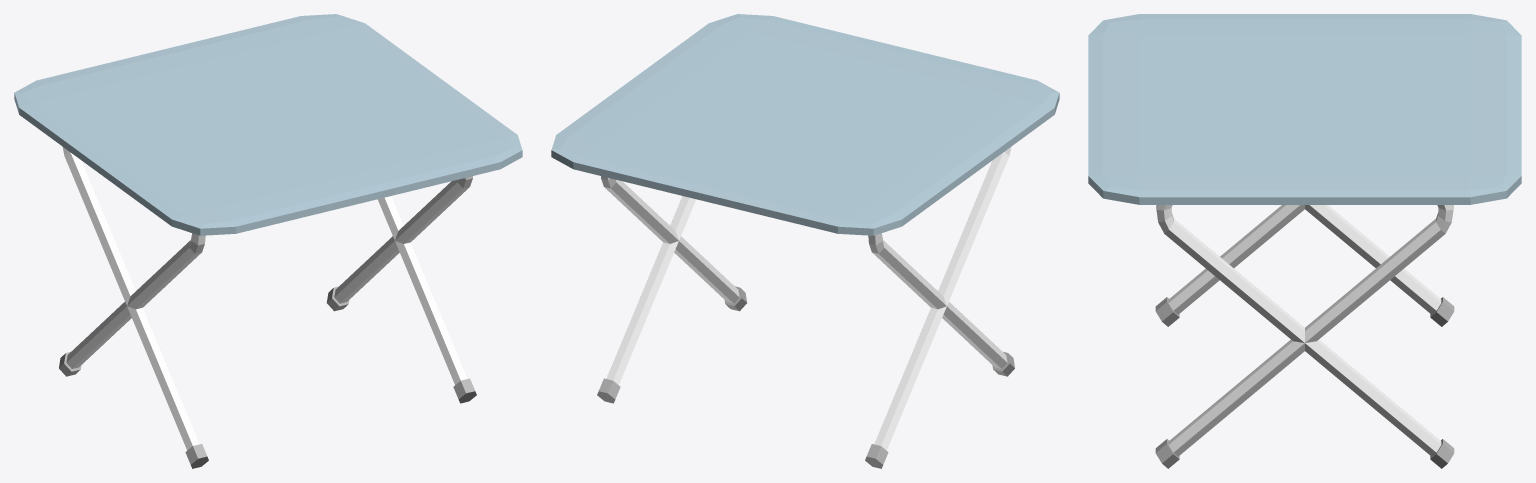
The model's file is Table_05.glb.
The picture shows the model from 3 angles, left to right: view 1: azimuth 30°, elevation 25°; view 2: azimuth 150°, elevation 25°; view 3: azimuth 270°, elevation 25°; orthographic projection. The views are drawn at different scales.
Parts seen in each view (by area): view 1: Table_05; view 2: Table_05; view 3: Table_05.
Boxes of the visible parts, x1=… form: Table_05: x1=14, y1=14, x2=522, y2=468; Table_05: x1=551, y1=14, x2=1059, y2=468; Table_05: x1=1088, y1=14, x2=1521, y2=468.
Size of what is drawn, in the model's own units: 1.42 by 1.05 by 1.42.
Materials: 1 (1 with a texture image).
